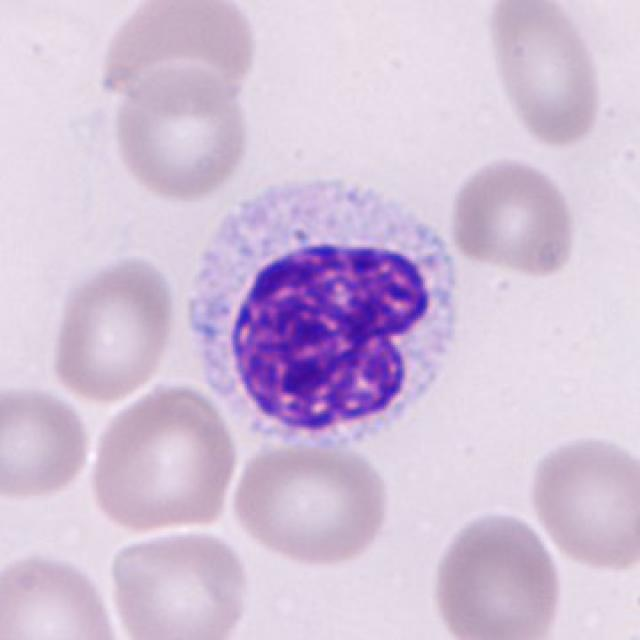Lymphocyte: (174, 157, 473, 463)
RBC: (84, 381, 242, 535), (228, 434, 395, 571), (45, 251, 180, 405), (109, 70, 255, 207), (98, 2, 263, 117), (426, 506, 567, 640), (484, 2, 610, 149), (103, 522, 256, 640), (446, 153, 583, 283), (522, 428, 640, 577), (0, 381, 96, 507), (2, 549, 121, 640)
